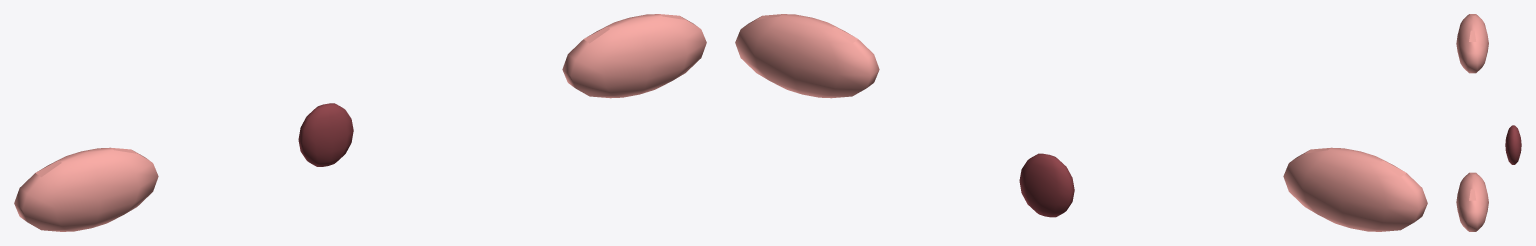
The model's file is Face_Tiny.fbx.
3 views of the same model, side by side, from view 1: azimuth 30°, elevation 25°; view 2: azimuth 150°, elevation 25°; view 3: azimuth 270°, elevation 25° (orthographic). The views are drawn at different scales.
Visible parts, largest first — view 1: Cheek, Cheek.001, Mouth; view 2: Cheek, Cheek.001, Mouth; view 3: Cheek, Cheek.001, Mouth.
Boxes of the visible parts, x1,y1,x2,y2 form: Cheek: (562,14,706,98); Cheek.001: (14,147,158,231); Mouth: (298,103,353,166); Cheek: (735,14,879,98); Cheek.001: (1283,147,1427,231); Mouth: (1019,153,1074,217); Cheek: (1456,172,1488,231); Cheek.001: (1456,14,1488,73); Mouth: (1505,125,1521,164).
Bounding box in the file's own units: 57.41 × 8.5 × 8.
